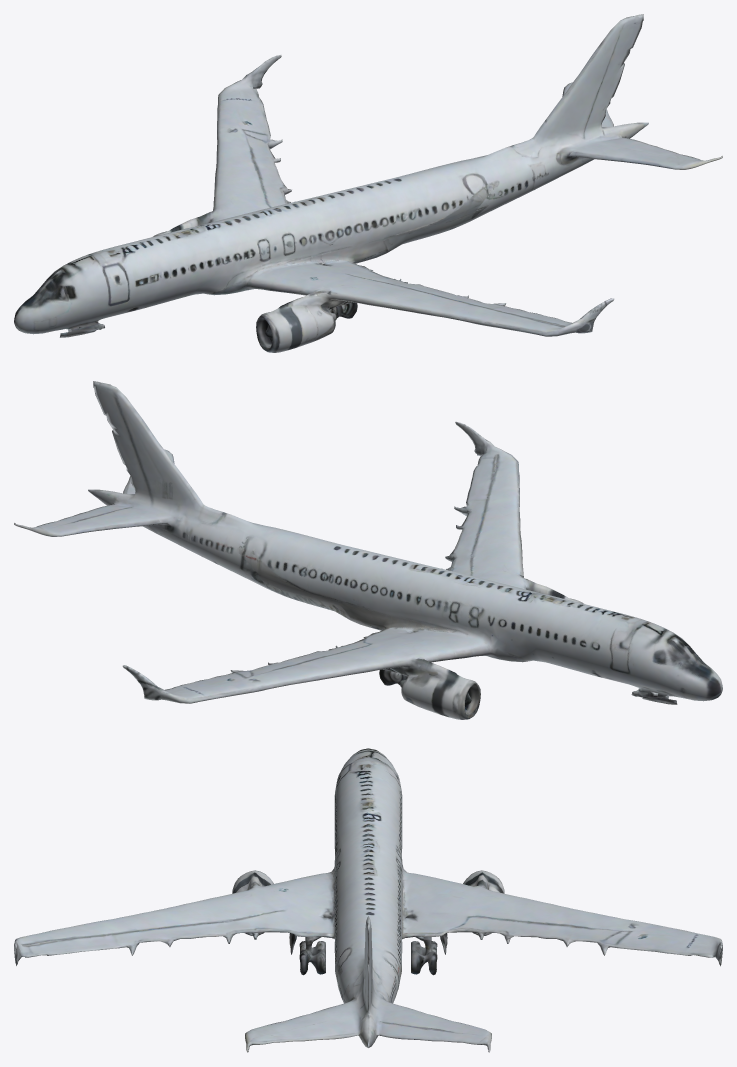
3 renders of one model, top to bottom at view 1: azimuth 30°, elevation 25°; view 2: azimuth 150°, elevation 25°; view 3: azimuth 270°, elevation 25°, orthographic. The views are drawn at different scales.
Bounding box in the file's own units: 1.98 × 0.5912 × 1.76.
1 material, 1 textured.
